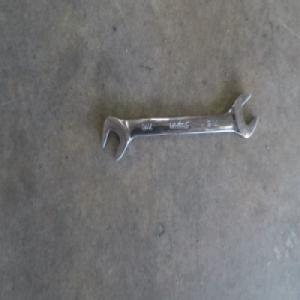Wrench: (101, 92, 258, 160)
